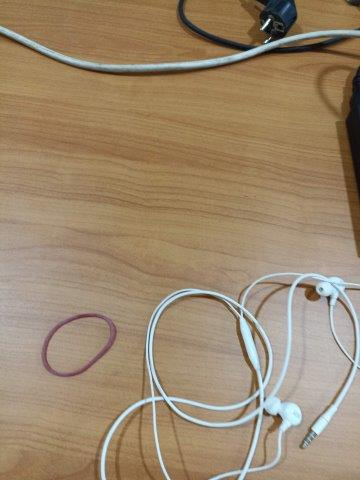karet: (41, 312, 117, 378)
